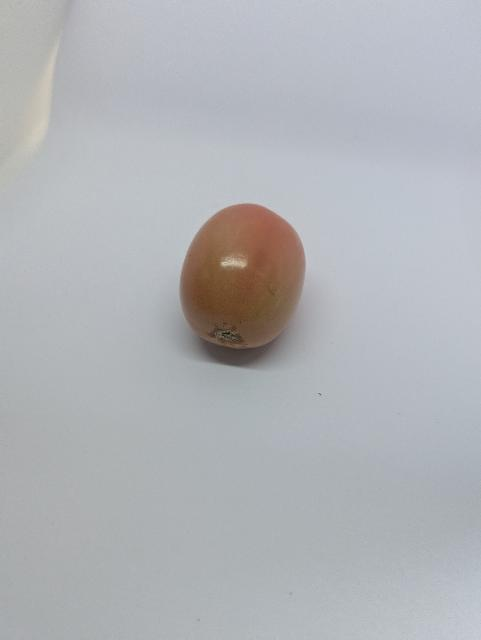turning: (171, 195, 316, 363)
